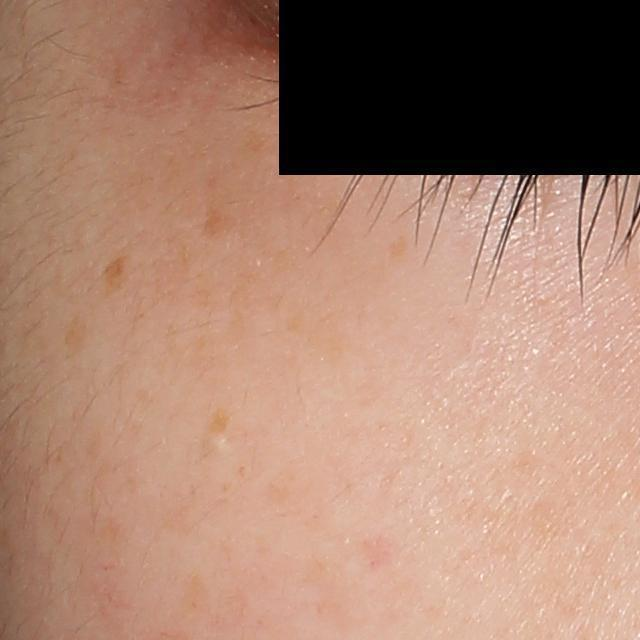comedo: (202, 435, 227, 456)
melasma: (202, 172, 267, 247), (280, 303, 349, 359), (203, 394, 238, 437), (63, 312, 90, 366), (102, 248, 126, 298), (387, 233, 409, 263)
